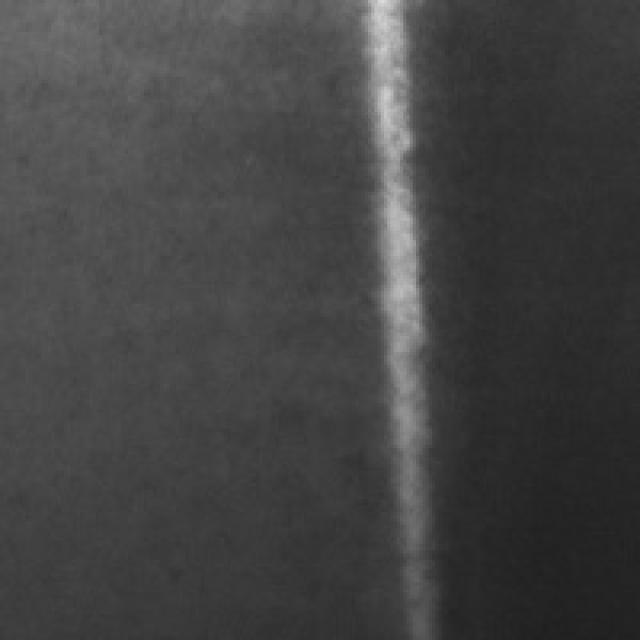scratches: (365, 0, 445, 627)
